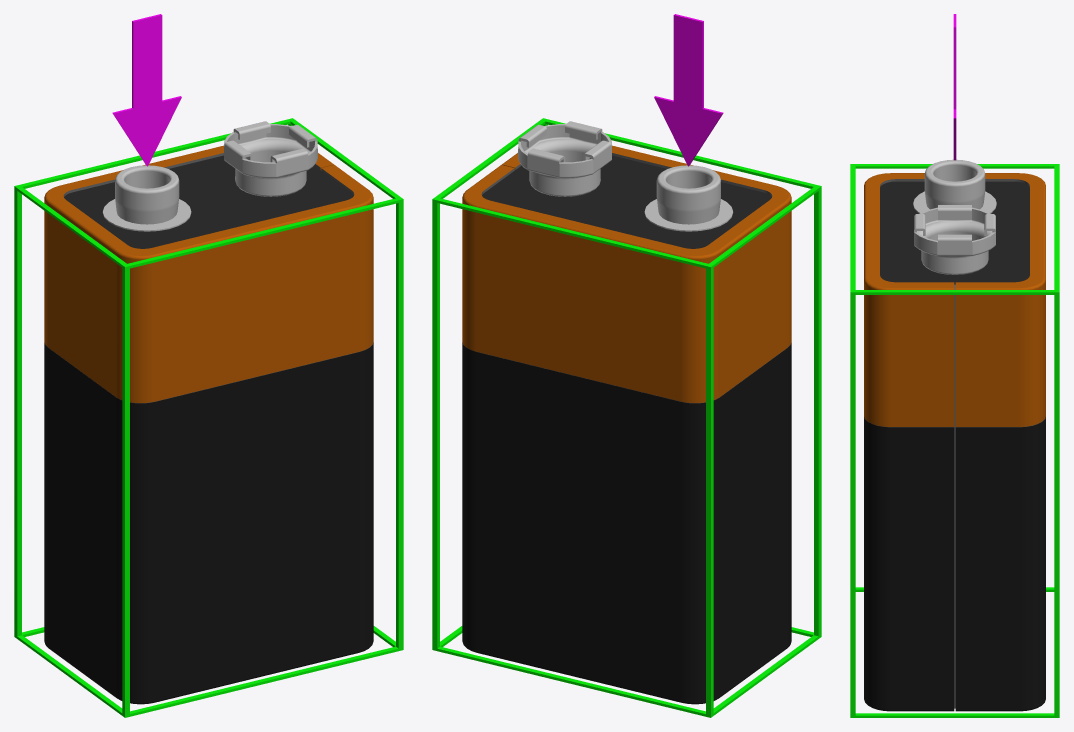
File: 9V_Battery.glb
The picture shows the model from 3 angles, left to right: view 1: azimuth 30°, elevation 25°; view 2: azimuth 150°, elevation 25°; view 3: azimuth 270°, elevation 25°; orthographic projection. The views are drawn at different scales.
Parts seen in each view (by area): view 1: Part 5, Part 3, Part 6, Part 2, Part 4, Part 7, Part; view 2: Part 5, Part 3, Part 6, Part 2, Part 4, Part 7, Part; view 3: Part 5, Part 3, Part 6, Part 4, Part 2, Part, Part 7.
Part boxes in pixels (x1,y1,x2,y2): Part 5: (44, 342, 373, 704); Part 3: (44, 145, 373, 403); Part 6: (14, 118, 403, 717); Part 2: (102, 121, 317, 231); Part 4: (64, 155, 353, 248); Part 7: (112, 14, 181, 166); Part: (45, 153, 372, 403); Part 5: (462, 342, 791, 704); Part 3: (462, 145, 791, 403); Part 6: (432, 118, 821, 717); Part 2: (518, 121, 733, 231); Part 4: (482, 155, 771, 248); Part 7: (654, 14, 723, 166); Part: (463, 153, 790, 403); Part 5: (864, 417, 1045, 711); Part 3: (864, 173, 1045, 426); Part 6: (850, 164, 1059, 717); Part 4: (880, 181, 1029, 284); Part 2: (913, 159, 996, 274); Part: (865, 179, 1044, 708); Part 7: (953, 14, 956, 160).
Bounding box in the file's own units: 0.0286 × 0.0628 × 0.0197.
